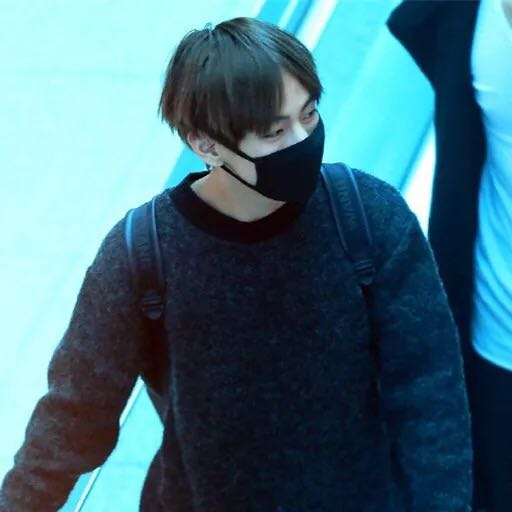face_mask: (227, 68, 323, 198)
